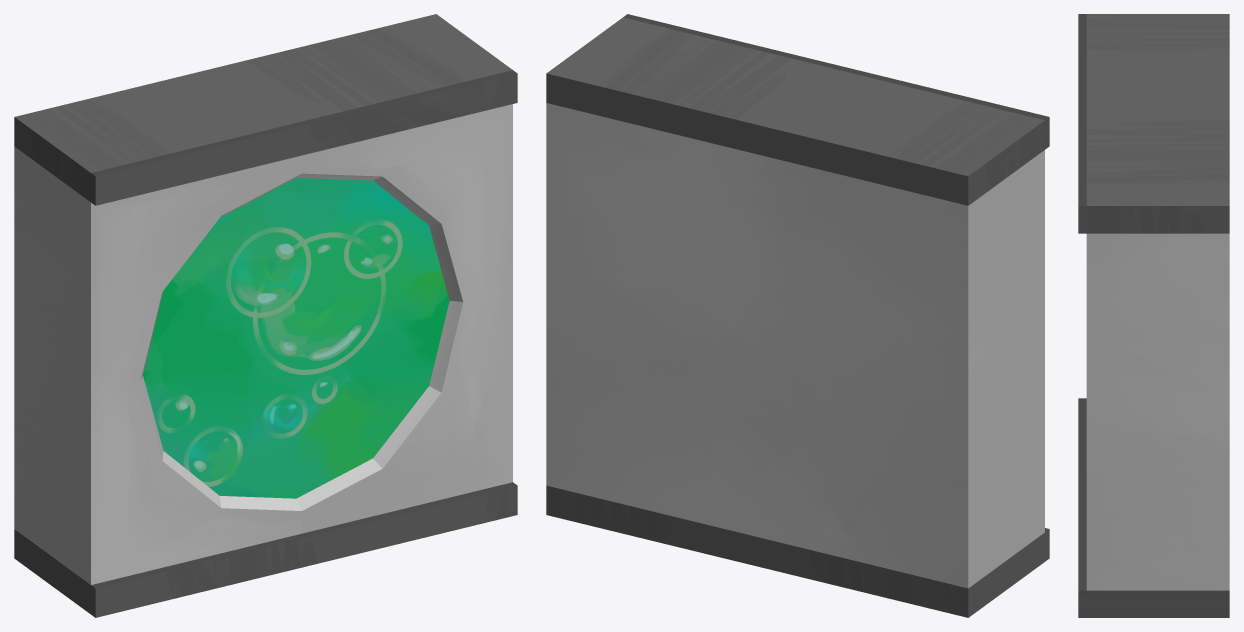
File: Wall_CircleBubble.fbx
The picture shows the model from 3 angles, left to right: view 1: azimuth 30°, elevation 25°; view 2: azimuth 150°, elevation 25°; view 3: azimuth 270°, elevation 25°; orthographic projection. The views are drawn at different scales.
Visible parts, largest first — view 1: Wall_CircleBubble; view 2: Wall_CircleBubble; view 3: Wall_CircleBubble.
Boxes of the visible parts, box(x1,y1,x2,y2) form: Wall_CircleBubble: box(14, 14, 517, 617); Wall_CircleBubble: box(546, 14, 1049, 617); Wall_CircleBubble: box(1078, 14, 1229, 617).
Bounding box in the file's own units: 300 × 300 × 100.
